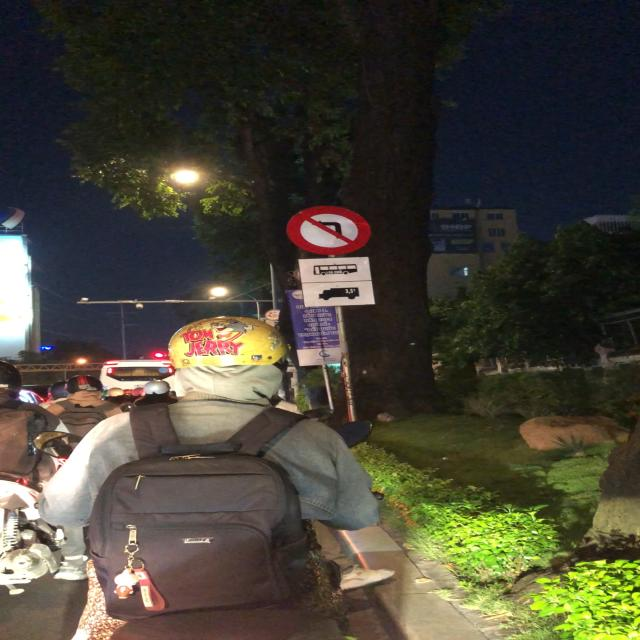Bien bao cam re trai: (283, 205, 375, 257)
